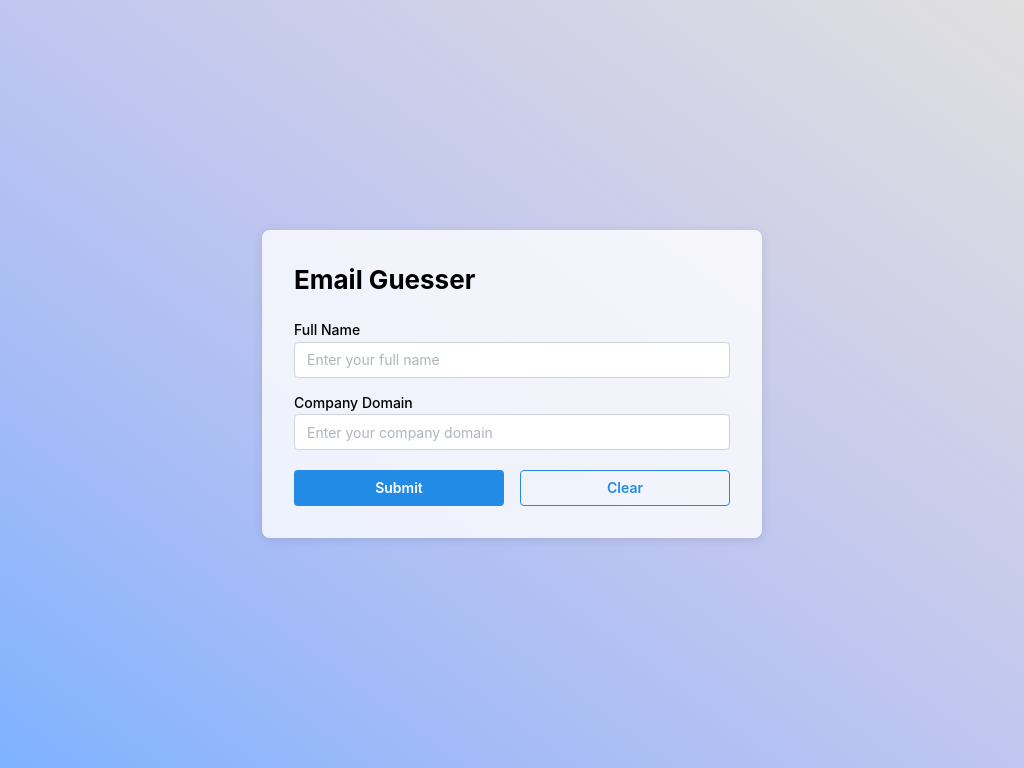
Scenario: EmailGuesserForm › validates form inputs correctly
Click the button "Submit": coordinates (399, 488) [294,470,504,506]
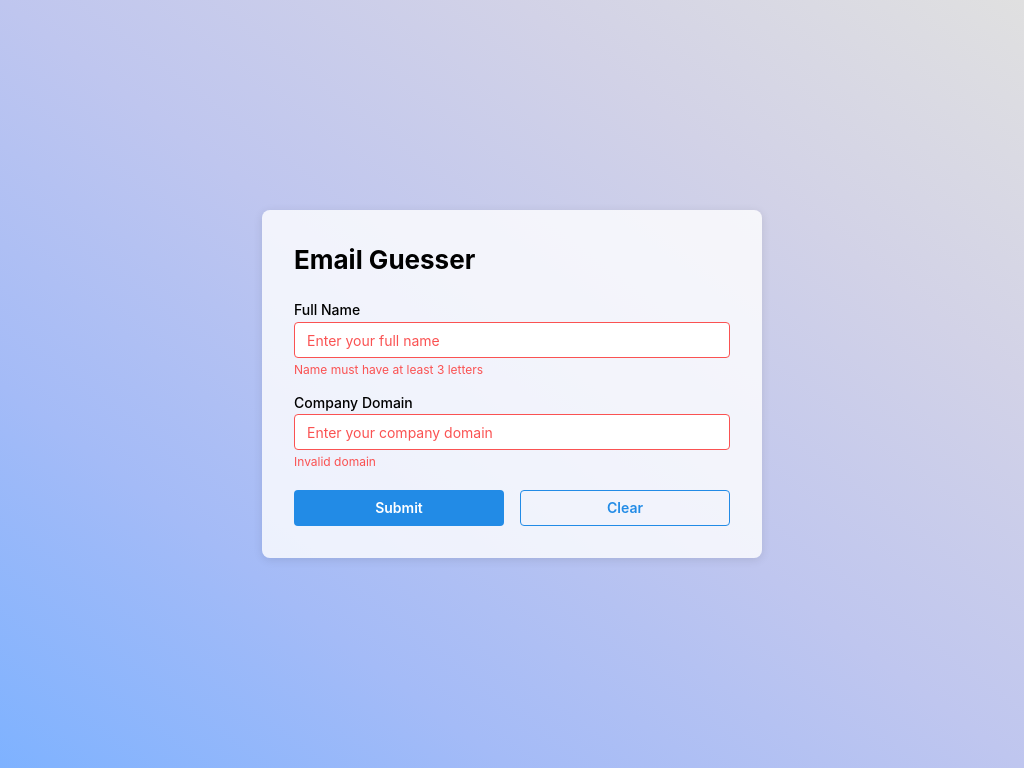
expect the text "Name must have at least 3 letters" is shown: met, box [294,362,483,377]
expect the text "Invalid domain" is shown: met, box [294,454,376,469]
